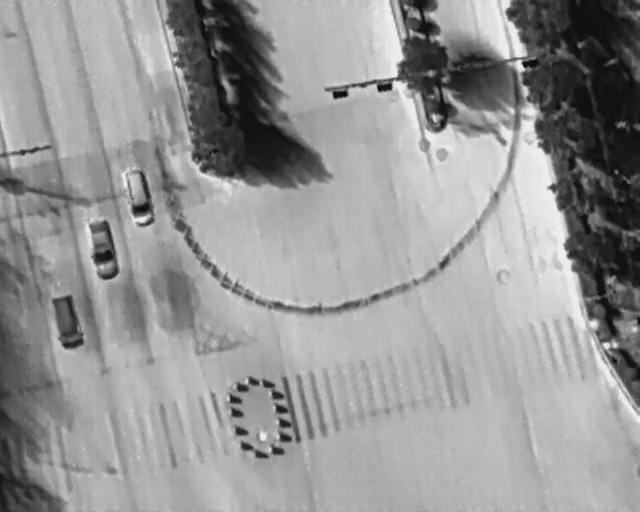Car: (84, 217, 122, 281), (47, 290, 86, 351), (120, 167, 156, 228)
